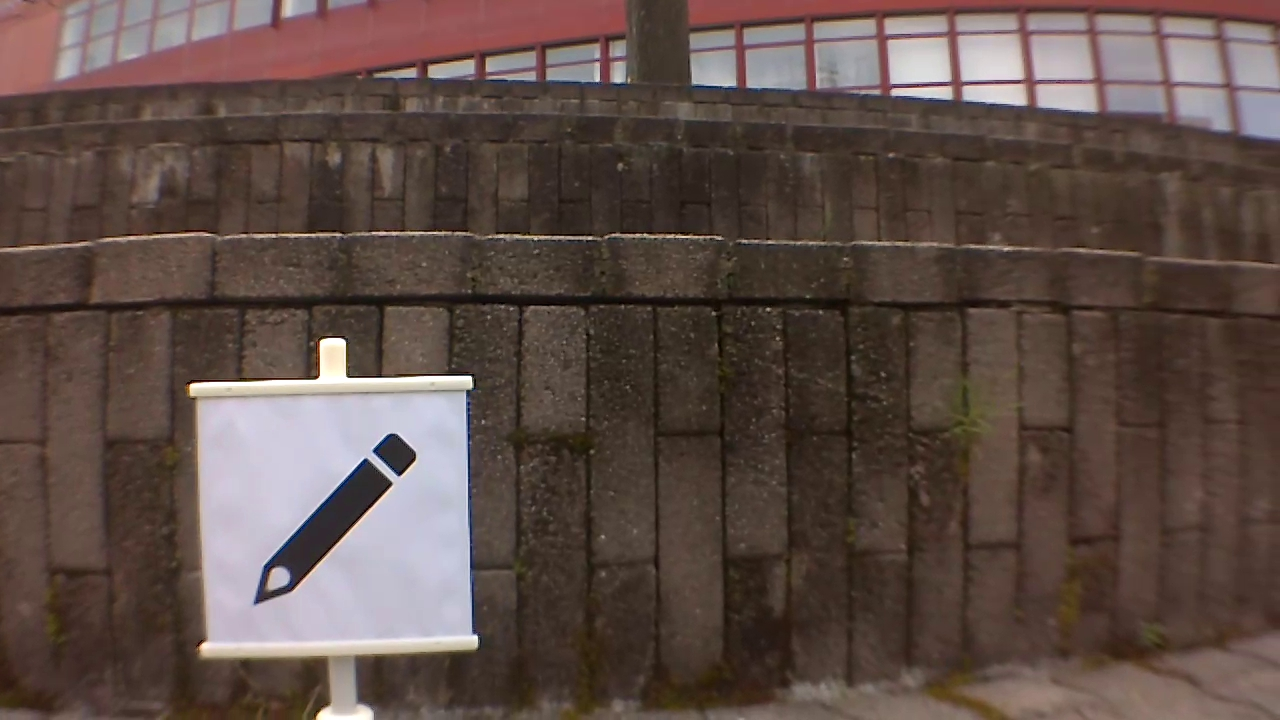pencil: (244, 427, 426, 611)
